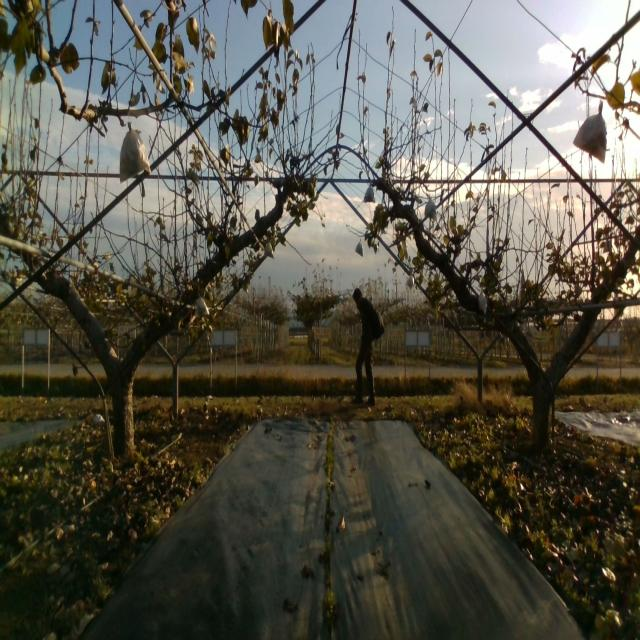pearbags: (351, 287, 386, 406), (572, 100, 607, 162), (118, 129, 151, 184), (423, 199, 438, 222), (196, 295, 209, 319), (478, 289, 488, 315), (363, 186, 376, 203)
